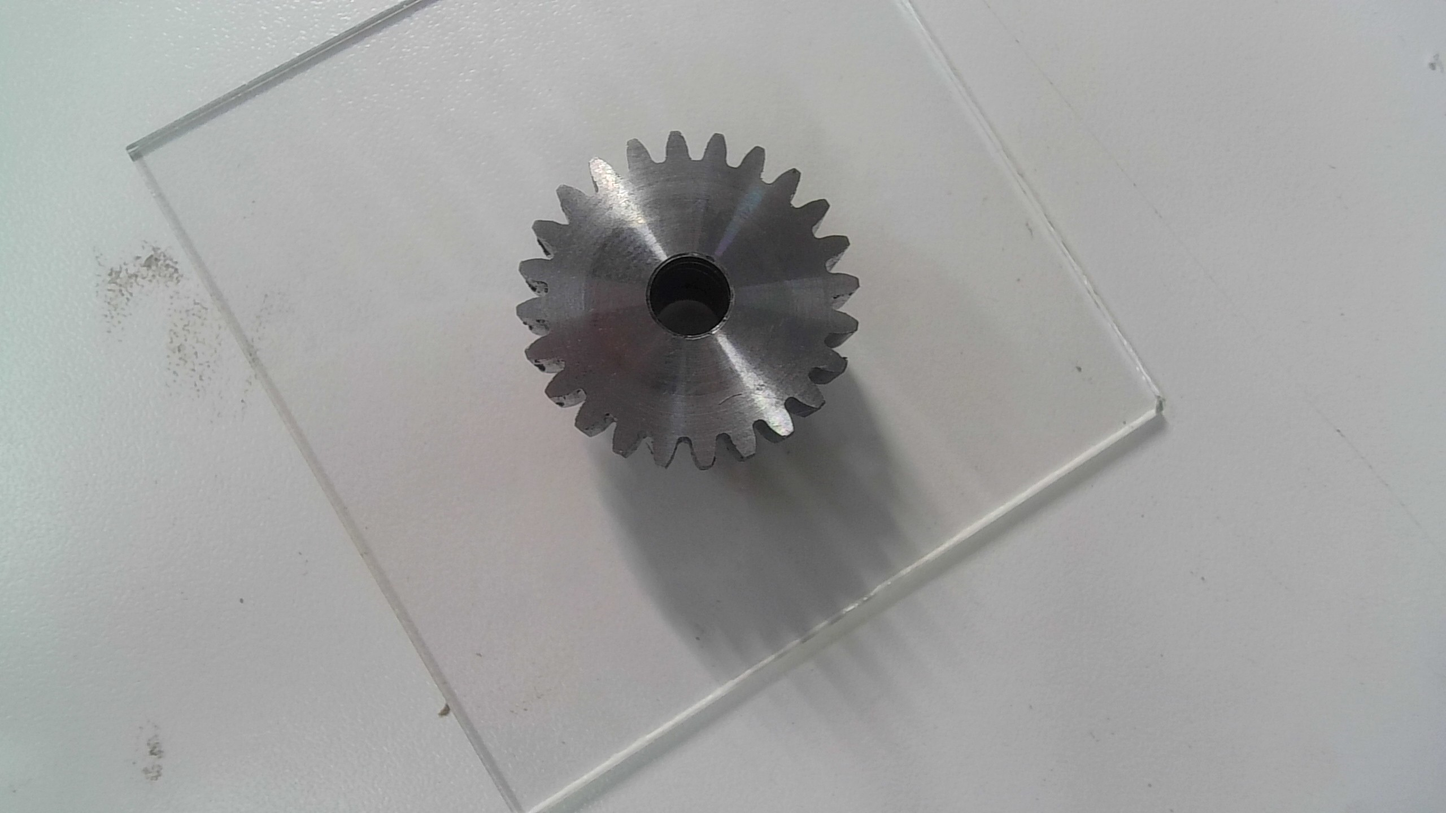gear: (510, 128, 860, 474)
